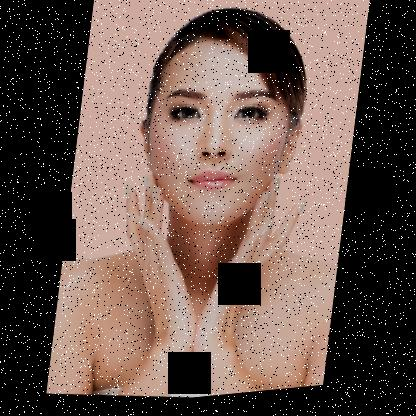Female: (127, 30, 310, 245)
